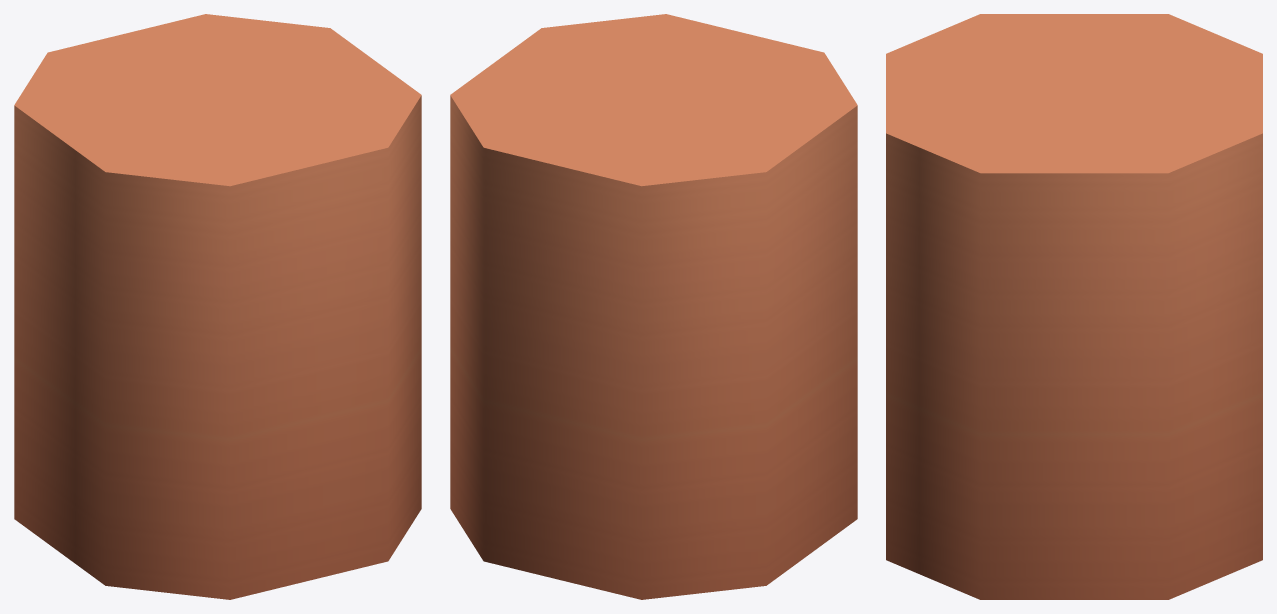
File: support-low.glb
3 views of the same model, side by side, from view 1: azimuth 30°, elevation 25°; view 2: azimuth 150°, elevation 25°; view 3: azimuth 270°, elevation 25° (orthographic). The views are drawn at different scales.
Visible parts, largest first — view 1: support-low; view 2: support-low; view 3: support-low.
Part boxes in pixels (bbox=[...]): support-low: bbox=[14, 14, 421, 599]; support-low: bbox=[450, 14, 857, 599]; support-low: bbox=[886, 14, 1262, 599].
Bounding box in the file's own units: 0.4 × 0.5 × 0.4.
1 material, 1 textured.
